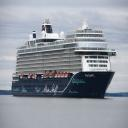cruises: (12, 19, 118, 101)
